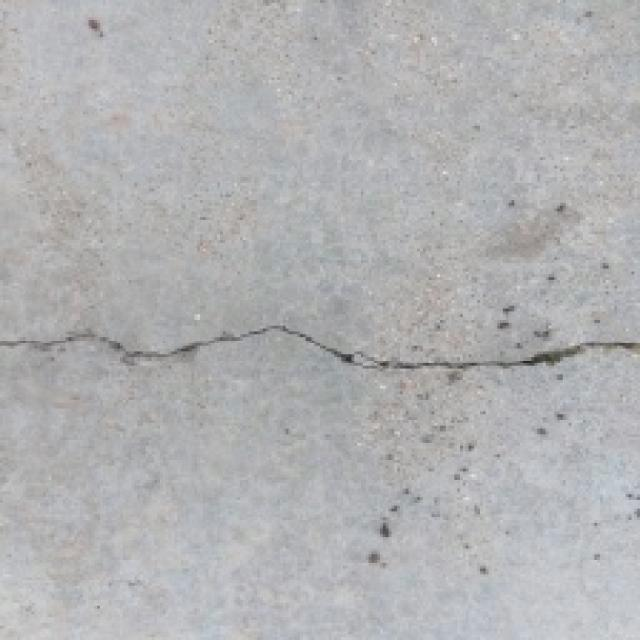crack: (6, 300, 638, 410)
